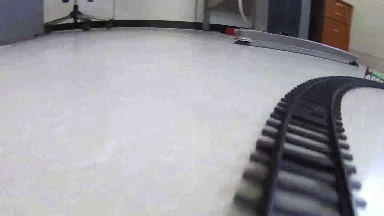tree: (361, 67, 384, 82)
